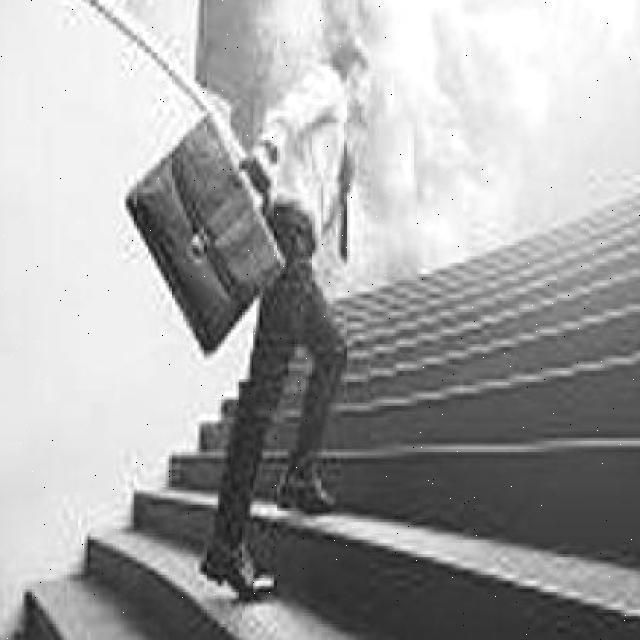stair: (111, 430, 494, 602)
